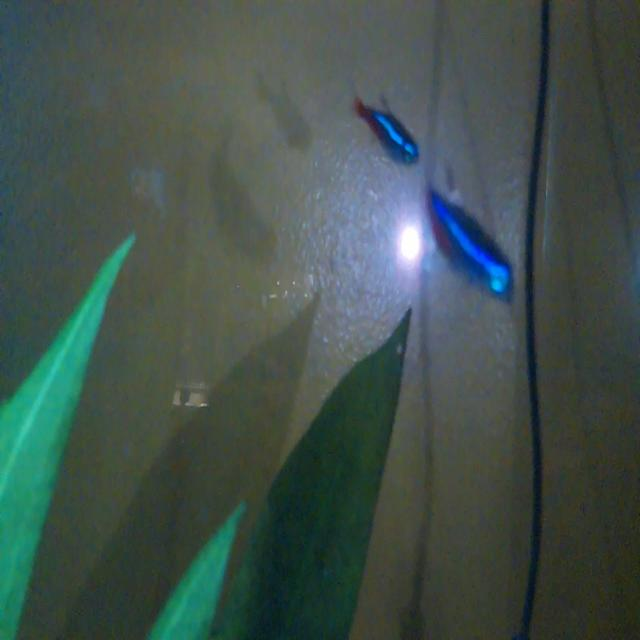fish: (416, 171, 521, 305), (348, 86, 425, 174)
